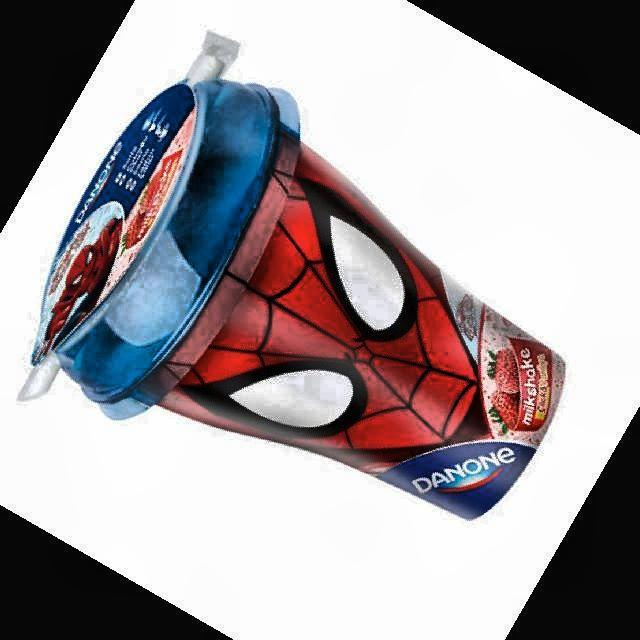plastic: (32, 80, 565, 518)
